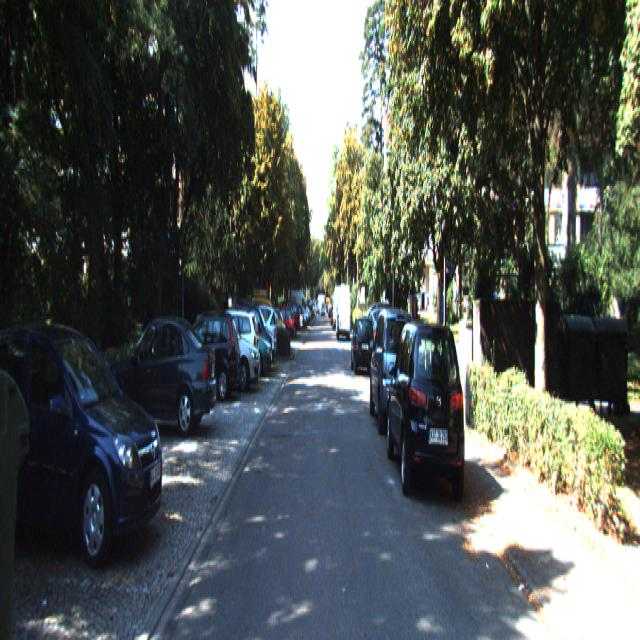Car: (0, 314, 168, 564), (388, 321, 468, 503), (103, 318, 219, 443), (369, 306, 422, 440), (169, 310, 241, 402), (186, 310, 260, 395), (194, 308, 260, 387), (223, 310, 272, 379), (351, 316, 376, 377), (264, 306, 296, 341), (336, 285, 351, 338)
